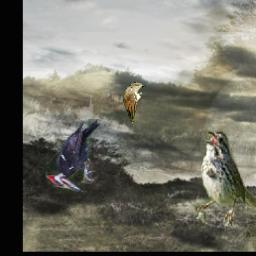Cuckoo: (122, 83, 146, 124)
Sparrow: (193, 130, 256, 228)
Woodpecker: (47, 120, 101, 193)
